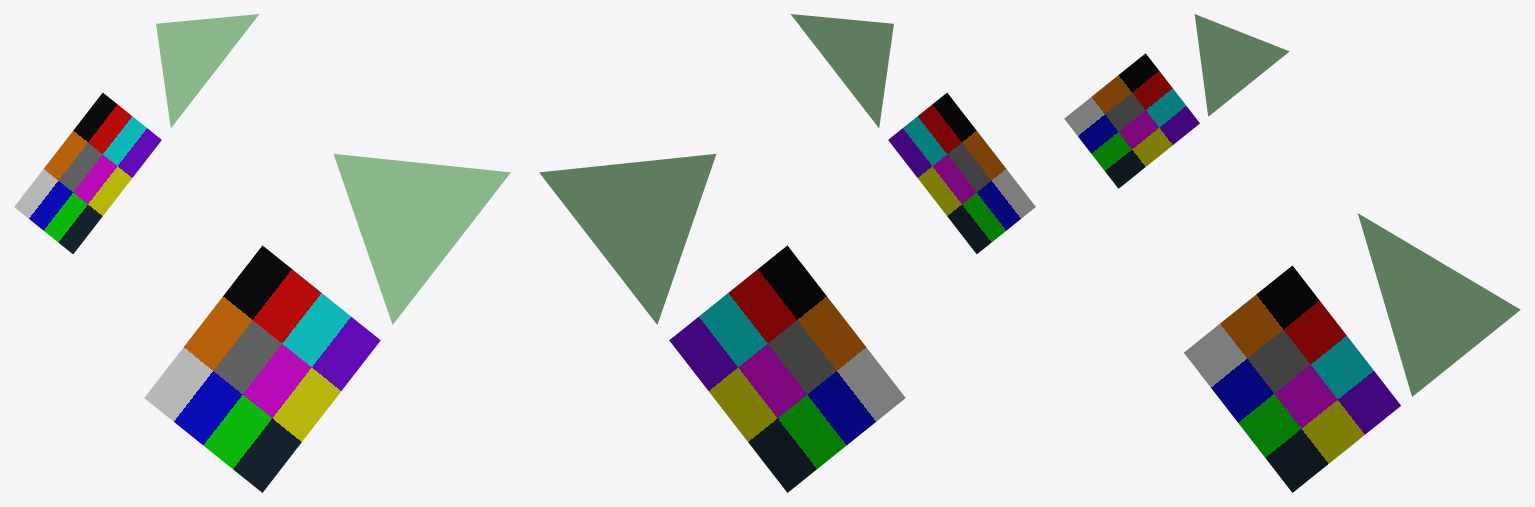
The model's file is embedded_textures.glb.
3 renders of one model, left to right at view 1: azimuth 30°, elevation 25°; view 2: azimuth 150°, elevation 25°; view 3: azimuth 330°, elevation 25°, orthographic. The views are drawn at different scales.
Parts seen in each view (by area): view 1: Shared, Leaf; view 2: Shared, Leaf; view 3: Shared, Leaf.
Boxes of the visible parts, x1,y1,x2,y2 form: Shared: [144, 154, 510, 492]; Leaf: [14, 14, 258, 253]; Shared: [539, 154, 905, 492]; Leaf: [791, 14, 1035, 253]; Shared: [1184, 213, 1520, 492]; Leaf: [1064, 14, 1289, 188].
Size of the model in its own units: 2.97 by 2.83 by 0.
Materials: 2 (1 with a texture image).
